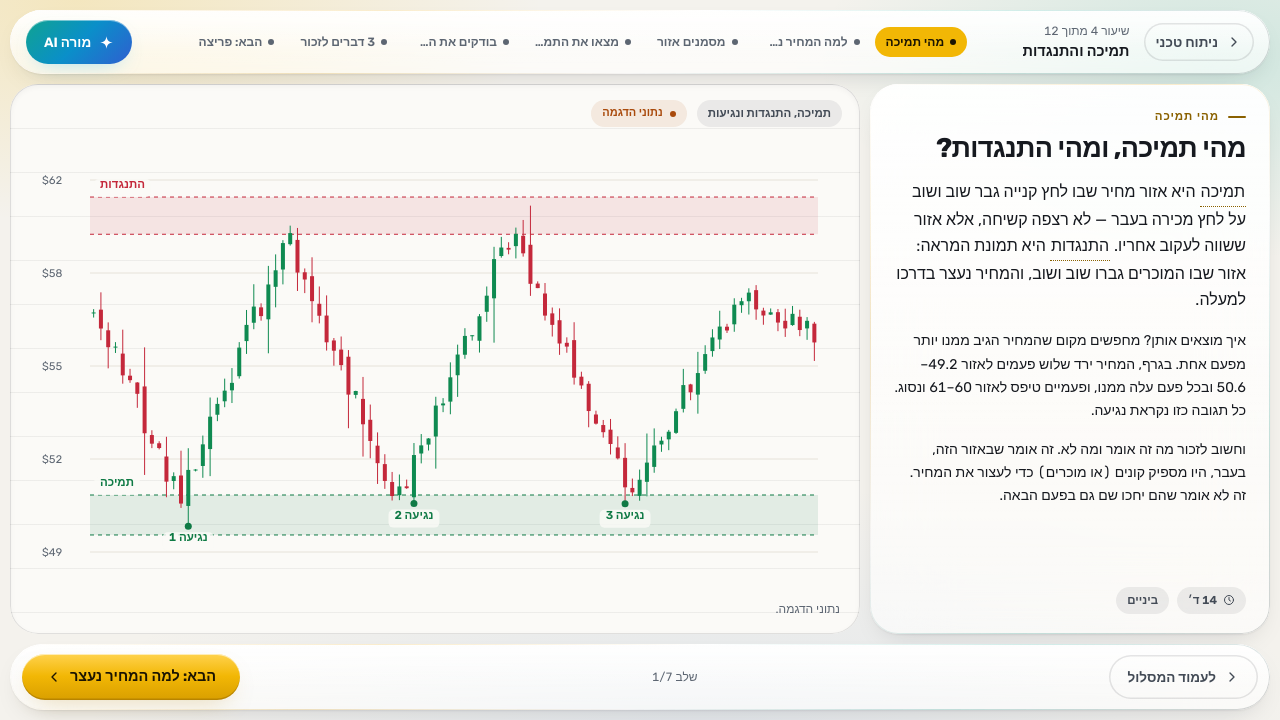
Test: the chart exercise (l1 → T4, step 4) › cannot be checked, and gives no feedback, before a guess
This screenshot has width=1280, height=720.
Click the button "מצאו את התמיכה". click: (583, 42)
box: [524,27,642,57]
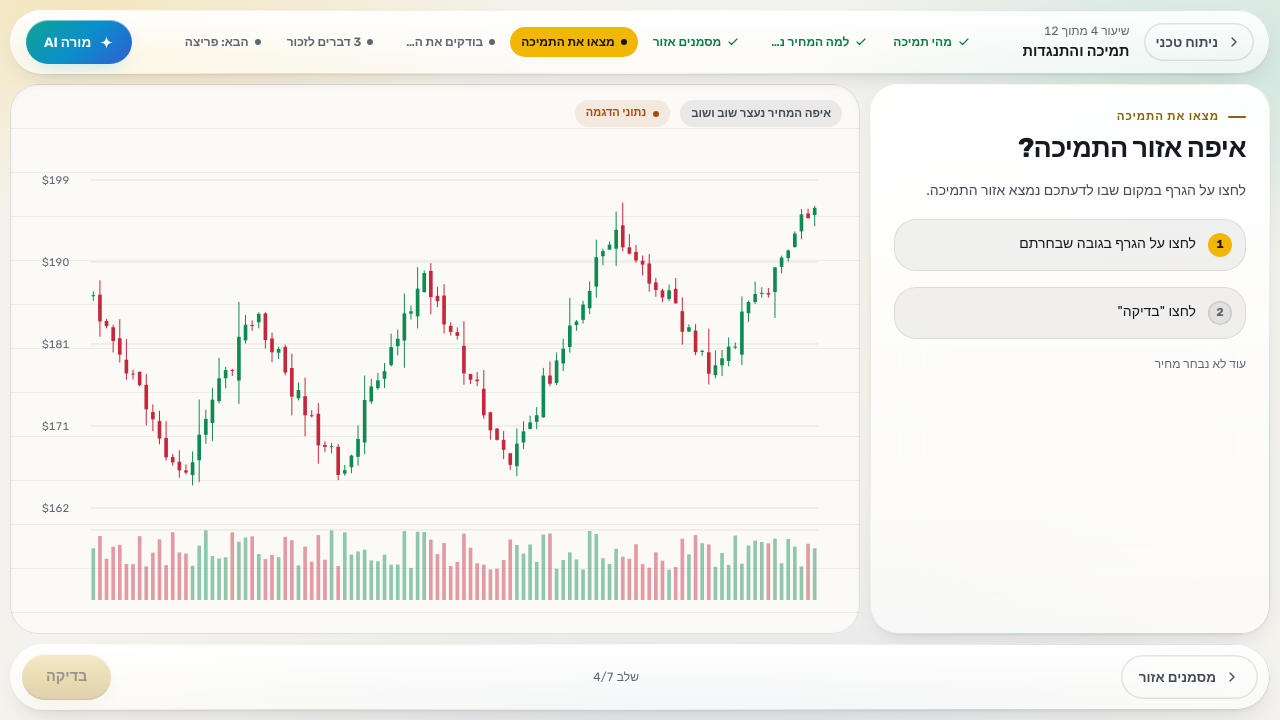
expect the button "בדיקה" is disabled: met, box [22,654,111,700]
